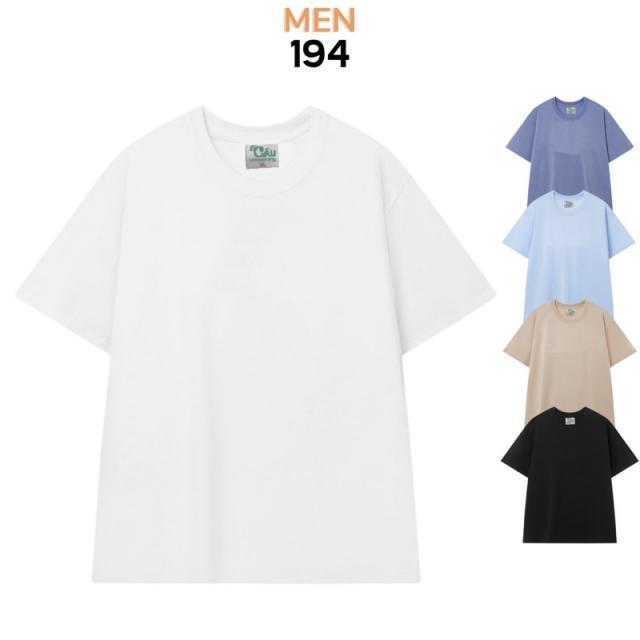Shirt: (21, 112, 496, 582)
